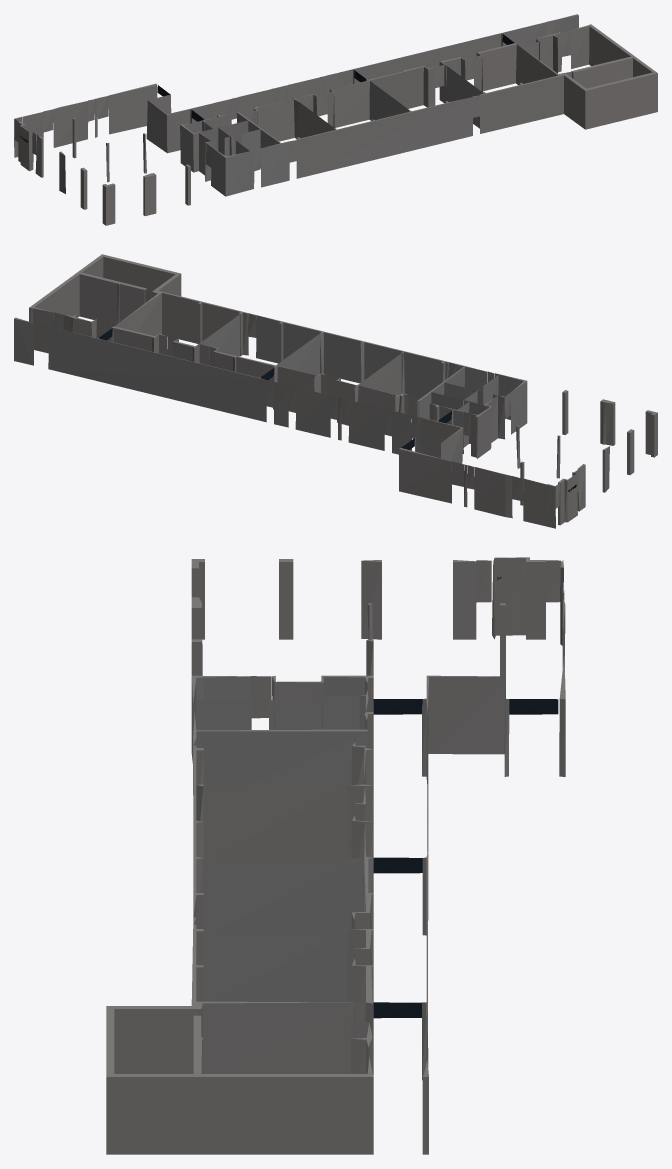
3 renders of one model, top to bottom at view 1: azimuth 30°, elevation 25°; view 2: azimuth 150°, elevation 25°; view 3: azimuth 270°, elevation 25°, orthographic. The views are drawn at different scales.
Visible parts, largest first — view 1: Line005.001; view 2: Line005.001; view 3: Line005.001.
Boxes of the visible parts, box(x1,y1,x2,y2) form: Line005.001: box(14, 14, 657, 225); Line005.001: box(14, 254, 657, 528); Line005.001: box(106, 557, 565, 1154).
Size of the model in its own units: 71.82 by 5.01 by 26.83.
